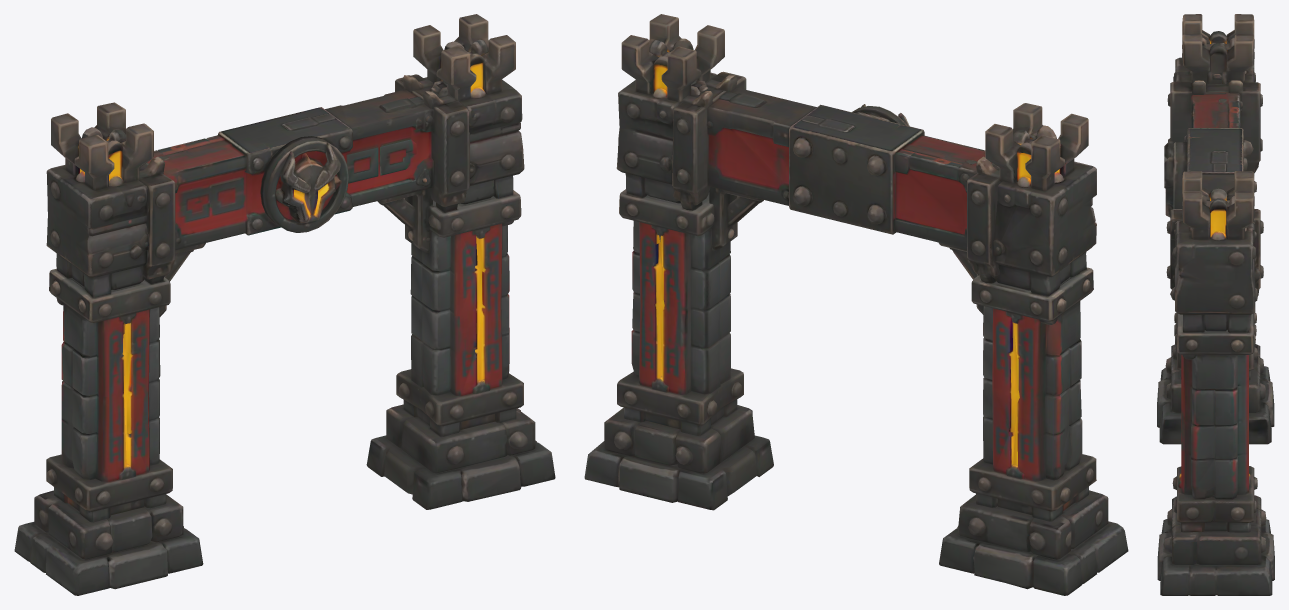
File: SM_Tripo_InfernoMoltenGateFrame.glb
The picture shows the model from 3 angles, left to right: view 1: azimuth 30°, elevation 25°; view 2: azimuth 150°, elevation 25°; view 3: azimuth 270°, elevation 25°; orthographic projection. The views are drawn at different scales.
Parts seen in each view (by area): view 1: SM_Tripo_InfernoMoltenGateFrame_LOD0; view 2: SM_Tripo_InfernoMoltenGateFrame_LOD0; view 3: SM_Tripo_InfernoMoltenGateFrame_LOD0.
Boxes of the visible parts, x1,y1,x2,y2 form: SM_Tripo_InfernoMoltenGateFrame_LOD0: [14, 14, 555, 595]; SM_Tripo_InfernoMoltenGateFrame_LOD0: [584, 14, 1128, 595]; SM_Tripo_InfernoMoltenGateFrame_LOD0: [1157, 14, 1274, 595].
Size of the model in its own units: 13.89 by 12 by 3.32.
1 material, 1 textured.
